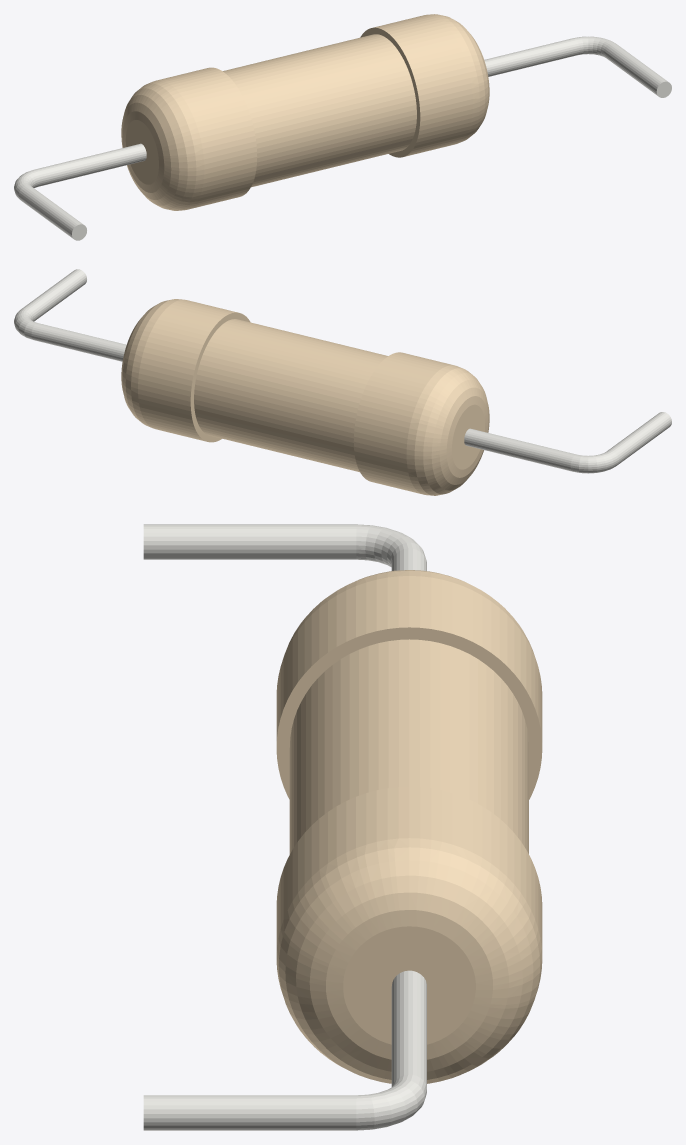
Rendered from R_Axial_DIN0617_L17.0mm_D6.0mm_P30.48mm_Horizontal.glb.
The picture shows the model from 3 angles, top to bottom: view 1: azimuth 30°, elevation 25°; view 2: azimuth 150°, elevation 25°; view 3: azimuth 270°, elevation 25°; orthographic projection. The views are drawn at different scales.
Parts seen in each view (by area): view 1: Shape_IndexedFaceSet.004, Shape_IndexedFaceSet, Shape_IndexedFaceSet.008, Shape_IndexedFaceSet.010, Shape_IndexedFaceSet.001, Shape_IndexedFaceSet.013, Shape_IndexedFaceSet.005, Shape_IndexedFaceSet.012, Shape_IndexedFaceSet.009, Shape_IndexedFaceSet.015, Shape_IndexedFaceSet.002, Shape_IndexedFaceSet.007 (+1 smaller); view 2: Shape_IndexedFaceSet.004, Shape_IndexedFaceSet, Shape_IndexedFaceSet.008, Shape_IndexedFaceSet.010, Shape_IndexedFaceSet.001, Shape_IndexedFaceSet.013, Shape_IndexedFaceSet.005, Shape_IndexedFaceSet.012, Shape_IndexedFaceSet.009, Shape_IndexedFaceSet.015, Shape_IndexedFaceSet.014, Shape_IndexedFaceSet.002 (+1 smaller); view 3: Shape_IndexedFaceSet.001, Shape_IndexedFaceSet.004, Shape_IndexedFaceSet, Shape_IndexedFaceSet.008, Shape_IndexedFaceSet.003, Shape_IndexedFaceSet.009, Shape_IndexedFaceSet.015, Shape_IndexedFaceSet.006, Shape_IndexedFaceSet.005, Shape_IndexedFaceSet.007, Shape_IndexedFaceSet.014, Shape_IndexedFaceSet.010.
Part boxes in pixels (x1,y1,x2,y2): Shape_IndexedFaceSet.004: (223, 34, 416, 187); Shape_IndexedFaceSet: (372, 15, 472, 156); Shape_IndexedFaceSet.008: (156, 67, 257, 209); Shape_IndexedFaceSet.010: (121, 80, 204, 210); Shape_IndexedFaceSet.001: (427, 14, 489, 142); Shape_IndexedFaceSet.013: (35, 143, 146, 186); Shape_IndexedFaceSet.005: (484, 38, 579, 76); Shape_IndexedFaceSet.012: (125, 120, 158, 184); Shape_IndexedFaceSet.009: (603, 42, 667, 96); Shape_IndexedFaceSet.015: (18, 185, 83, 238); Shape_IndexedFaceSet.002: (360, 27, 420, 157); Shape_IndexedFaceSet.007: (573, 36, 614, 57); Shape_IndexedFaceSet.004: (194, 319, 387, 472); Shape_IndexedFaceSet: (138, 299, 237, 441); Shape_IndexedFaceSet.008: (353, 352, 453, 493); Shape_IndexedFaceSet.010: (406, 365, 489, 495); Shape_IndexedFaceSet.001: (121, 299, 181, 427); Shape_IndexedFaceSet.013: (464, 428, 576, 471); Shape_IndexedFaceSet.005: (31, 323, 126, 361); Shape_IndexedFaceSet.012: (452, 404, 484, 469); Shape_IndexedFaceSet.009: (22, 269, 86, 321); Shape_IndexedFaceSet.015: (607, 412, 671, 464); Shape_IndexedFaceSet.014: (570, 451, 618, 473); Shape_IndexedFaceSet.002: (190, 312, 250, 442); Shape_IndexedFaceSet.001: (276, 838, 542, 1083); Shape_IndexedFaceSet.004: (289, 639, 528, 854); Shape_IndexedFaceSet: (276, 786, 542, 952); Shape_IndexedFaceSet.008: (276, 576, 542, 742); Shape_IndexedFaceSet.003: (343, 926, 475, 1044); Shape_IndexedFaceSet.009: (143, 1095, 356, 1130); Shape_IndexedFaceSet.015: (143, 524, 356, 559); Shape_IndexedFaceSet.006: (276, 627, 542, 799); Shape_IndexedFaceSet.005: (391, 970, 426, 1087); Shape_IndexedFaceSet.007: (356, 1074, 426, 1130); Shape_IndexedFaceSet.014: (356, 524, 425, 567); Shape_IndexedFaceSet.010: (284, 570, 534, 655).
Size of the model in its own units: 12.31 by 2.36 by 3.54.
